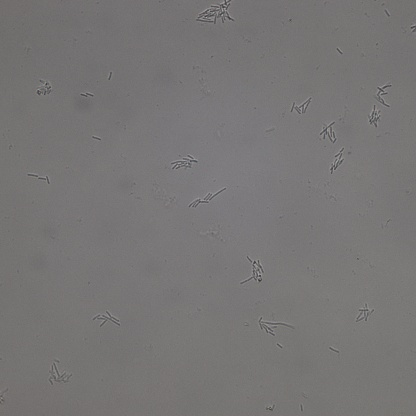R(colony): (196, 1, 235, 25), (189, 188, 225, 207), (258, 317, 294, 335), (241, 256, 264, 284), (49, 359, 71, 386), (171, 154, 198, 171), (93, 311, 121, 327), (330, 148, 346, 173), (375, 84, 392, 107), (356, 303, 375, 323), (320, 121, 337, 143), (291, 98, 311, 115), (36, 78, 53, 97), (368, 104, 381, 128)
